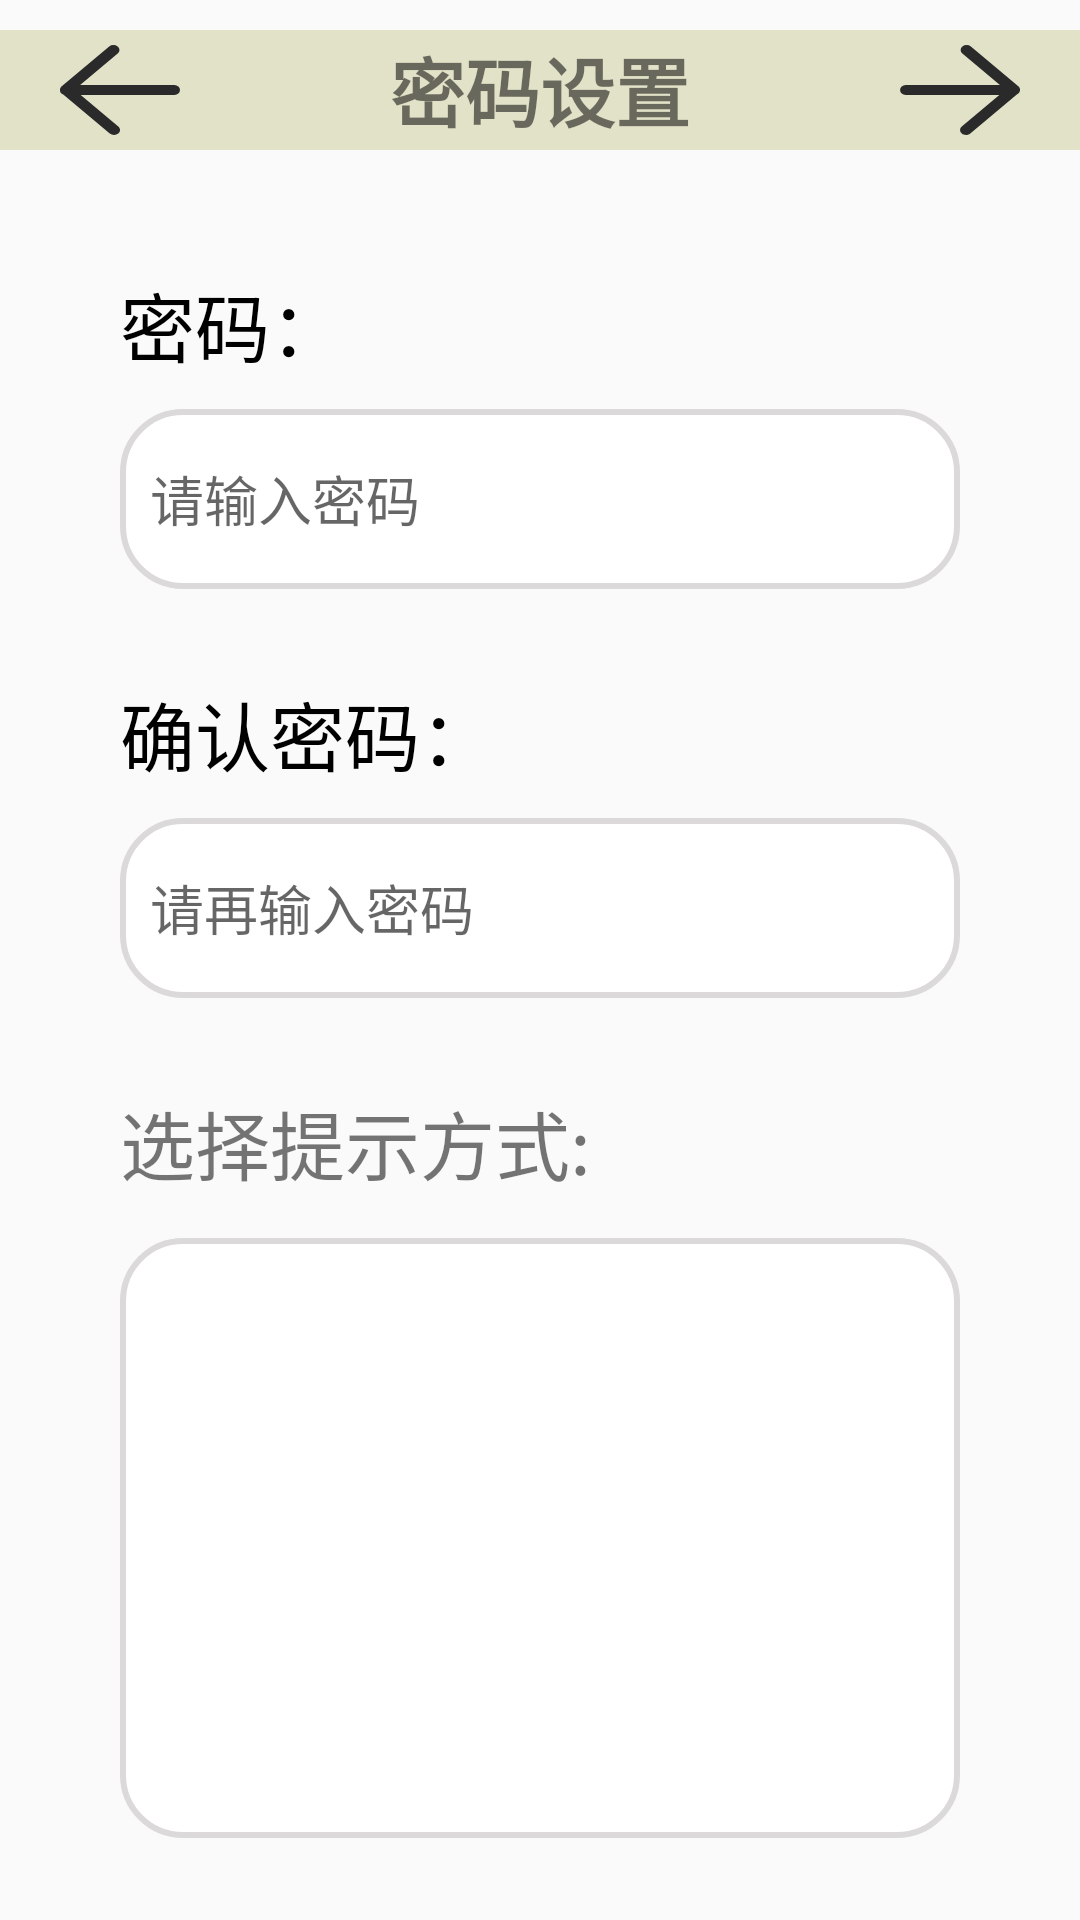

Icon bounding boxes for this 1080w x 1920h phone screenshot, format (x1,y1,x2,y2):
back: (60,45,180,135)
next: (900,45,1020,135)
